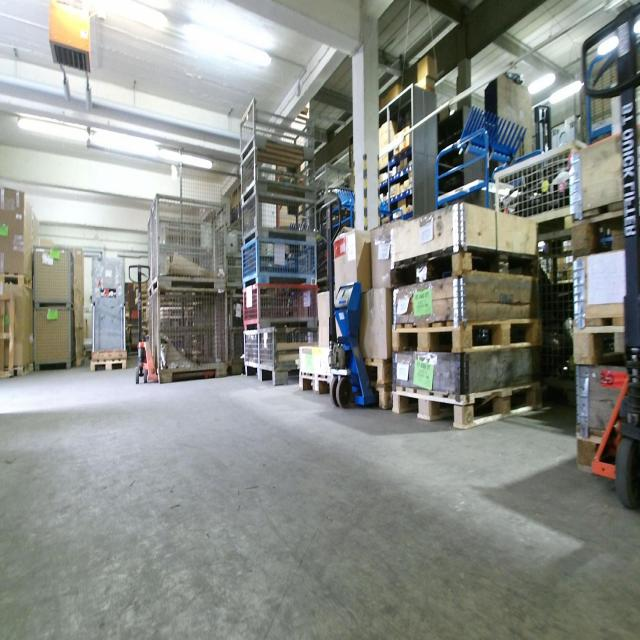pallet: (391, 381, 544, 442), (391, 244, 541, 297), (395, 310, 544, 357), (566, 196, 628, 261), (572, 312, 629, 376), (573, 425, 623, 475), (352, 350, 402, 384), (291, 370, 344, 396), (364, 380, 399, 411), (90, 350, 129, 377), (2, 275, 34, 296), (7, 361, 30, 384)
pallet_truck: (582, 2, 639, 517), (312, 192, 387, 413), (129, 260, 219, 382)
stillage: (489, 134, 609, 229), (537, 244, 606, 389), (150, 190, 229, 287), (152, 284, 230, 379), (238, 99, 315, 163), (239, 144, 316, 205), (240, 193, 317, 247), (259, 327, 321, 389), (243, 239, 318, 288), (242, 282, 321, 326), (30, 307, 78, 371), (31, 248, 75, 311), (216, 225, 248, 298), (222, 293, 245, 380), (308, 161, 356, 202), (309, 199, 353, 237), (244, 328, 262, 381), (145, 286, 154, 377), (147, 209, 152, 289)
